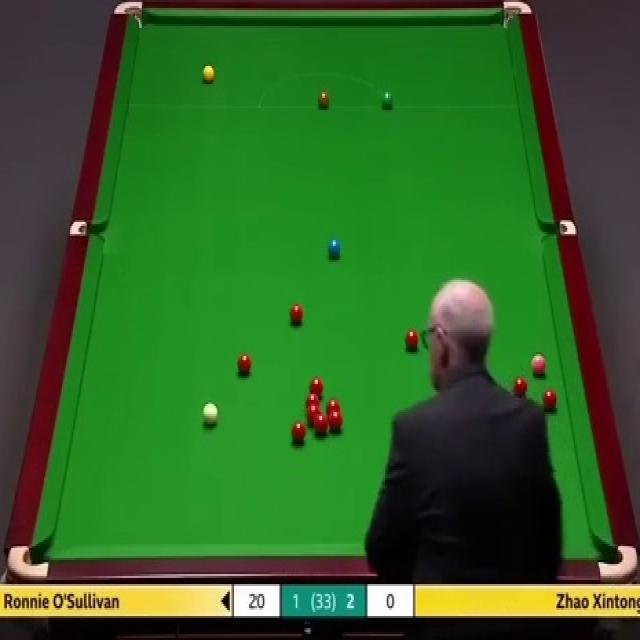blue-ball: (328, 238, 342, 259)
brown-ball: (316, 90, 329, 110)
green-ball: (380, 91, 396, 110)
pink-ball: (530, 354, 548, 377)
red-ball: (513, 374, 528, 400), (542, 388, 558, 412), (305, 401, 321, 424), (289, 302, 304, 326), (237, 353, 252, 376), (329, 408, 344, 431), (404, 328, 419, 350), (309, 376, 323, 398), (293, 422, 307, 443), (304, 393, 320, 411), (314, 416, 328, 434), (326, 398, 340, 416)
white-ball: (203, 400, 219, 424)
yellow-ball: (202, 65, 214, 86)
